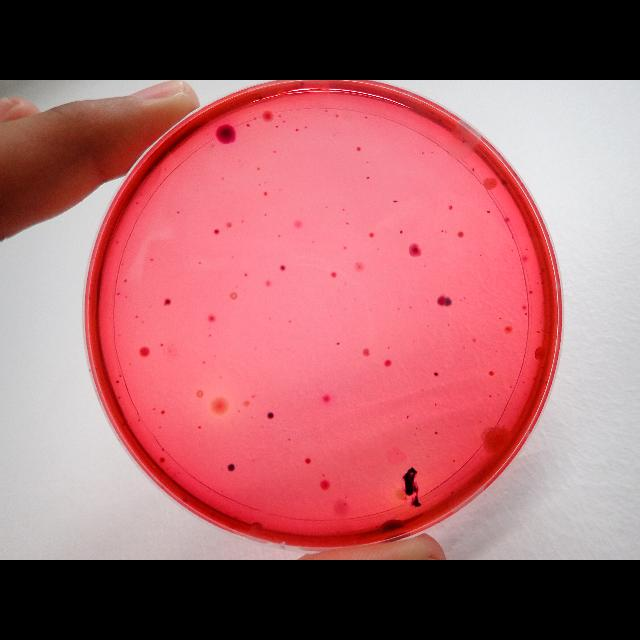colony: (213, 122, 239, 146), (408, 244, 422, 256), (436, 295, 446, 307), (227, 462, 236, 472), (432, 369, 441, 377), (445, 295, 451, 307), (212, 227, 220, 235), (164, 298, 172, 306), (266, 411, 274, 419), (279, 262, 285, 272), (114, 378, 120, 386), (392, 198, 398, 205), (160, 409, 166, 416), (398, 228, 404, 234), (258, 96, 262, 102), (366, 176, 370, 180)
